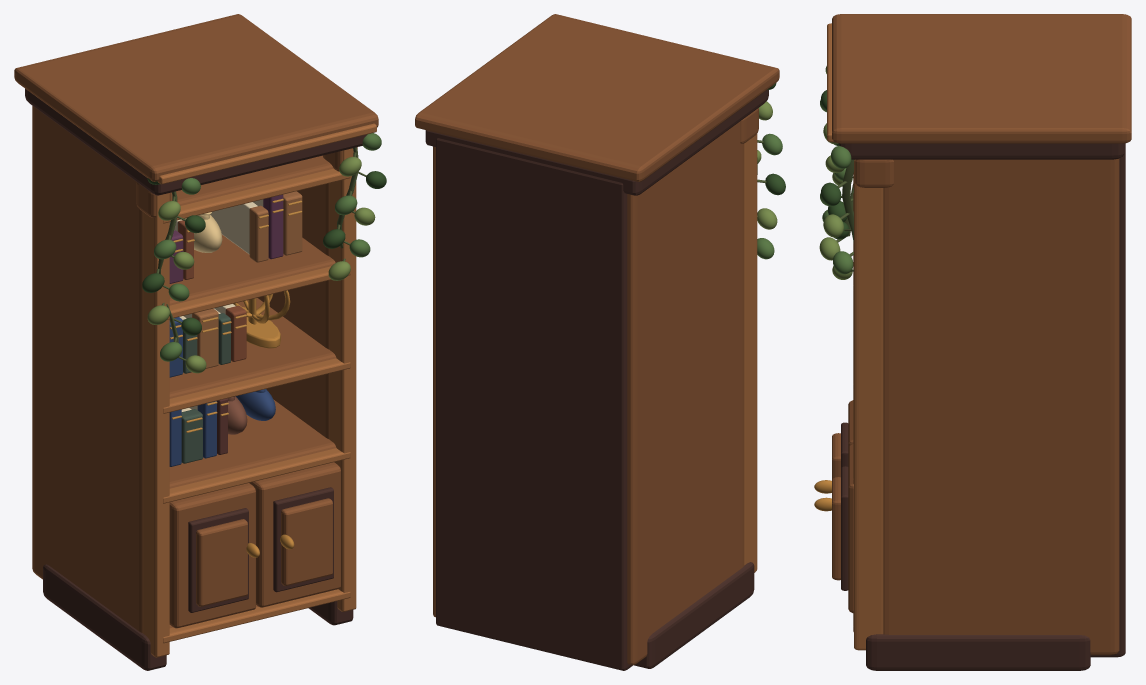
The model's file is bedroom-bookcase.glb.
The picture shows the model from 3 angles, left to right: view 1: azimuth 30°, elevation 25°; view 2: azimuth 150°, elevation 25°; view 3: azimuth 270°, elevation 25°; orthographic projection. The views are drawn at different scales.
Parts seen in each view (by area): view 1: bedroom_bookcase_pivot_Mesh; view 2: bedroom_bookcase_pivot_Mesh; view 3: bedroom_bookcase_pivot_Mesh.
Part boxes in pixels (x1,y1,x2,y2): bedroom_bookcase_pivot_Mesh: (14, 14, 386, 670); bedroom_bookcase_pivot_Mesh: (415, 14, 785, 670); bedroom_bookcase_pivot_Mesh: (814, 14, 1131, 670).
Bounding box in the file's own units: 1.41 × 2.92 × 1.53.
